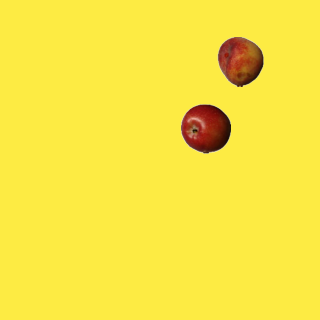Apple Braeburn: (180, 103, 230, 153)
Peach: (215, 36, 265, 86)
